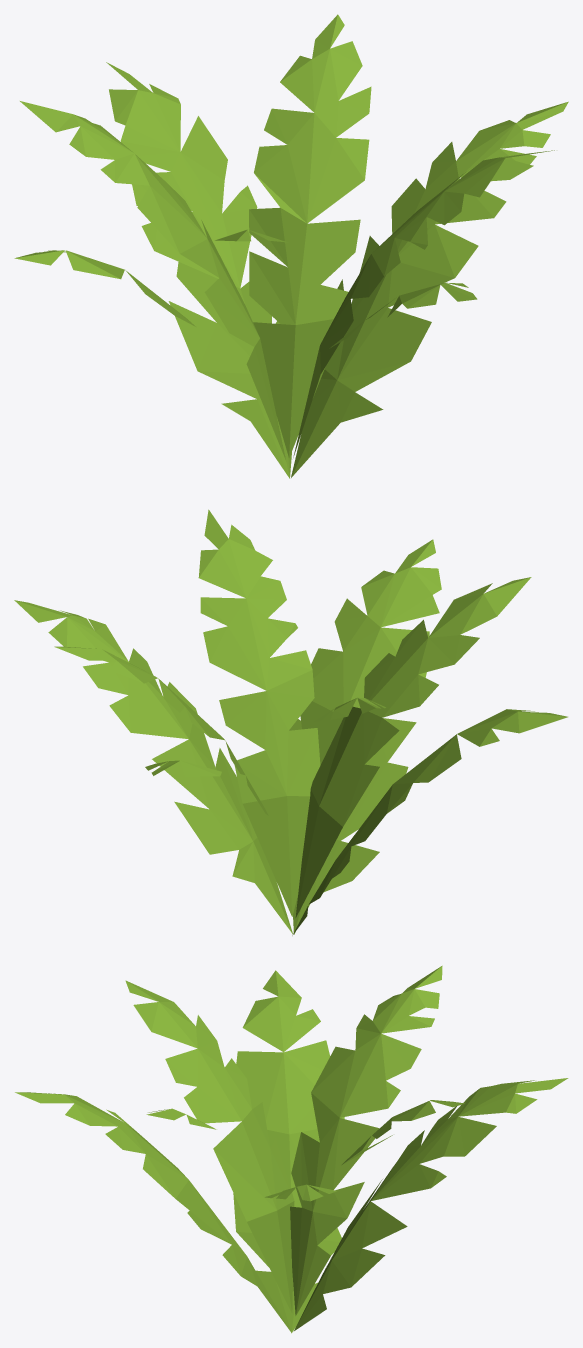
File: grass-fern-mature-b.gltf
The picture shows the model from 3 angles, top to bottom: view 1: azimuth 30°, elevation 25°; view 2: azimuth 150°, elevation 25°; view 3: azimuth 270°, elevation 25°; orthographic projection. The views are drawn at different scales.
Visible parts, largest first — view 1: grass-fern-mature-b; view 2: grass-fern-mature-b; view 3: grass-fern-mature-b.
Part boxes in pixels (<box>): grass-fern-mature-b: <box>14,14,568,478</box>; grass-fern-mature-b: <box>14,509,567,935</box>; grass-fern-mature-b: <box>15,965,568,1333</box>.
Bounding box in the file's own units: 0.0139 × 0.00827 × 0.0141.
